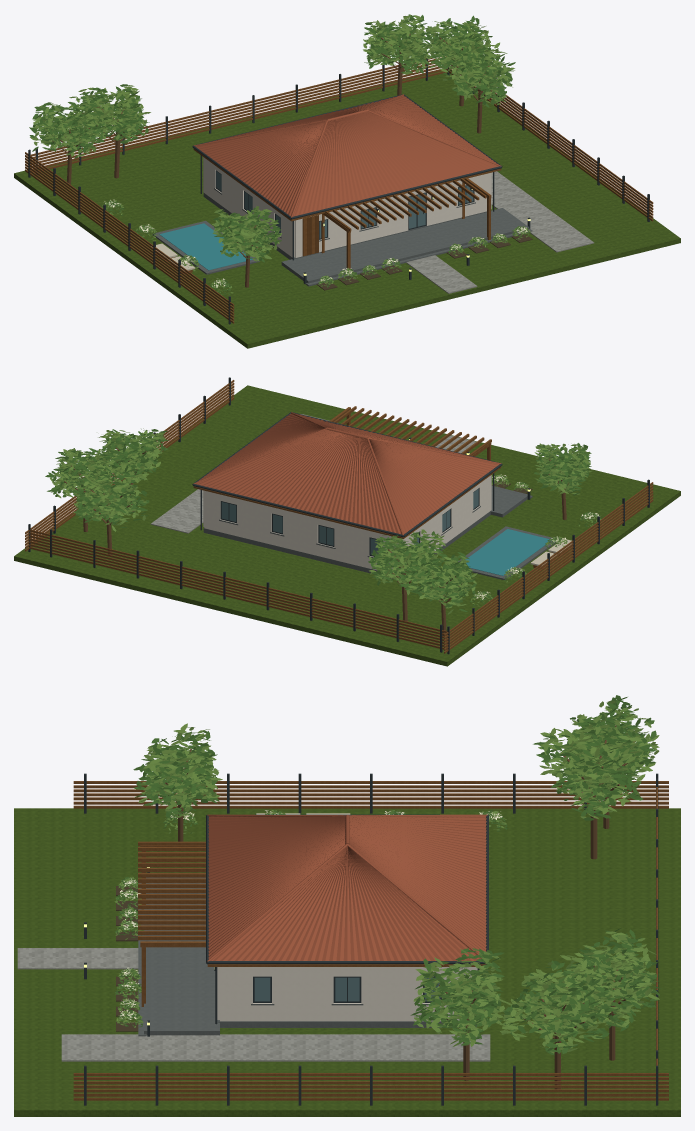
The model's file is casa-04.glb.
The picture shows the model from 3 angles, top to bottom: view 1: azimuth 30°, elevation 25°; view 2: azimuth 150°, elevation 25°; view 3: azimuth 270°, elevation 25°; orthographic projection. The views are drawn at different scales.
Parts seen in each view (by area): view 1: landscape_grass.003, architecture_terracotta, landscape_wood.003, landscape_leaf-light.003, landscape_leaf.003, landscape_stone.003, architecture_cream, landscape_paving.003, architecture_wood.003, architecture_metal.003, landscape_water.002, landscape_metal.003 (+4 smaller); view 2: landscape_grass.003, architecture_terracotta, landscape_wood.003, landscape_leaf-light.003, landscape_leaf.003, architecture_cream, architecture_wood.003, landscape_water.002, architecture_metal.003, landscape_metal.003, landscape_paving.003, landscape_stone.003 (+3 smaller); view 3: landscape_grass.003, architecture_terracotta, landscape_wood.003, landscape_leaf-light.003, landscape_leaf.003, landscape_paving.003, architecture_cream, architecture_wood.003, landscape_stone.003, landscape_metal.003, architecture_metal.003, landscape_trunk.003 (+4 smaller).
Boxes of the visible parts, box(x1,y1,x2,y2) form: landscape_grass.003: box(14, 71, 680, 348); architecture_terracotta: box(193, 94, 501, 217); landscape_wood.003: box(25, 56, 653, 323); landscape_leaf-light.003: box(30, 15, 530, 293); landscape_leaf.003: box(29, 14, 530, 295); landscape_stone.003: box(152, 208, 532, 286); architecture_cream: box(203, 157, 491, 257); landscape_paving.003: box(406, 171, 594, 293); architecture_wood.003: box(193, 148, 501, 271); architecture_metal.003: box(192, 94, 502, 260); landscape_water.002: box(159, 223, 252, 270); landscape_metal.003: box(28, 58, 649, 324); landscape_grass.003: box(14, 385, 680, 666); architecture_terracotta: box(193, 412, 501, 535); landscape_wood.003: box(25, 380, 653, 653); landscape_leaf-light.003: box(48, 428, 601, 614); landscape_leaf.003: box(45, 429, 601, 611); architecture_cream: box(203, 475, 491, 571); architecture_wood.003: box(193, 406, 501, 538); landscape_water.002: box(465, 529, 551, 575); architecture_metal.003: box(192, 412, 502, 556); landscape_metal.003: box(28, 377, 649, 654); landscape_paving.003: box(150, 414, 476, 533); landscape_stone.003: box(458, 485, 555, 579); landscape_grass.003: box(14, 808, 680, 1116); architecture_terracotta: box(207, 814, 487, 961); landscape_wood.003: box(73, 781, 668, 1100); landscape_leaf-light.003: box(114, 700, 659, 1053); landscape_leaf.003: box(115, 695, 661, 1055); landscape_paving.003: box(17, 948, 490, 1061); architecture_cream: box(217, 967, 477, 1021); architecture_wood.003: box(138, 841, 485, 1006); landscape_stone.003: box(138, 877, 219, 1036); landscape_metal.003: box(84, 773, 658, 1105); architecture_metal.003: box(206, 814, 488, 1024); landscape_trunk.003: box(165, 725, 635, 1089).
Size of the model in its own units: 30.29 by 6.33 by 28.
17 materials, 5 textured.
